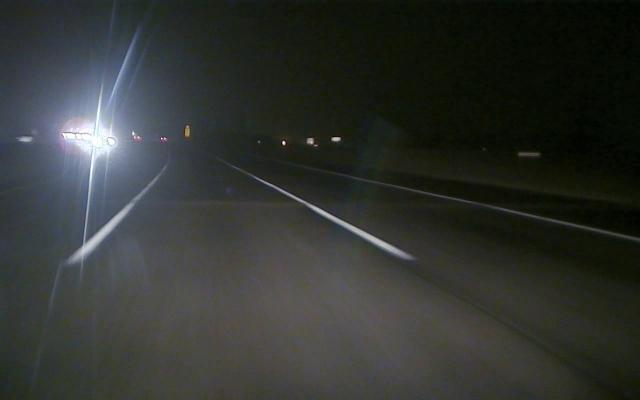lane: (341, 174, 637, 243), (252, 173, 419, 260), (62, 173, 162, 266)
